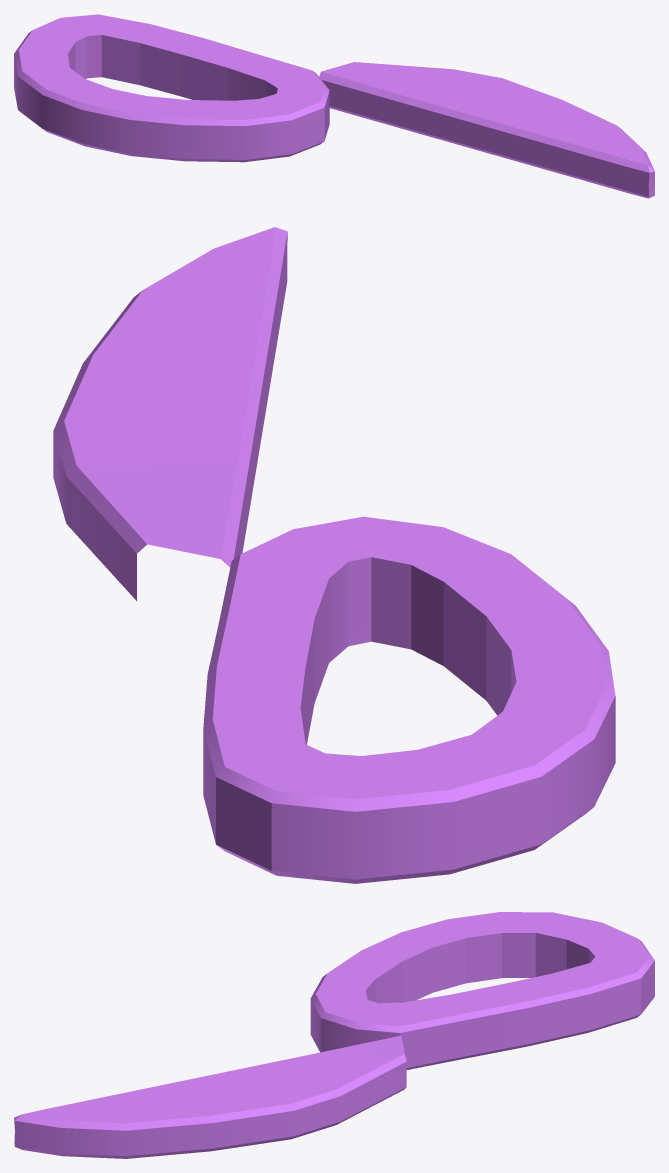
Rendered from ScissorsSecondModel.glb.
The picture shows the model from 3 angles, top to bottom: view 1: azimuth 30°, elevation 25°; view 2: azimuth 150°, elevation 25°; view 3: azimuth 270°, elevation 25°; orthographic projection. The views are drawn at different scales.
Parts seen in each view (by area): view 1: ScissorsSecondModel; view 2: ScissorsSecondModel; view 3: ScissorsSecondModel.
Part boxes in pixels (bbox=[...]): ScissorsSecondModel: bbox=[14, 14, 654, 198]; ScissorsSecondModel: bbox=[53, 227, 615, 883]; ScissorsSecondModel: bbox=[14, 912, 654, 1158].
Bounding box in the file's own units: 1.23 × 0.1224 × 1.57.
